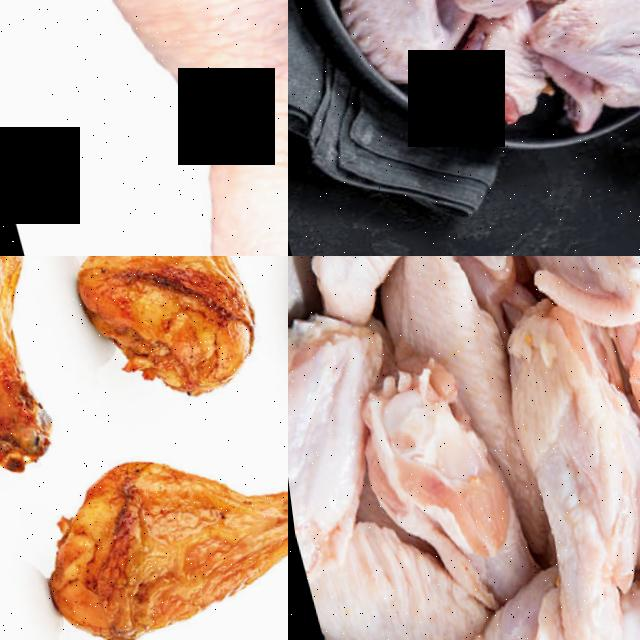chicken thigh: (18, 0, 288, 256), (5, 405, 288, 640), (12, 256, 277, 425), (0, 256, 93, 495)
chicken wing: (467, 293, 640, 640), (507, 0, 640, 129)
